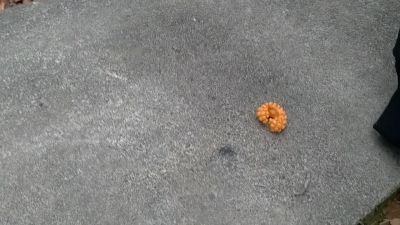eggs: (254, 100, 287, 134)
